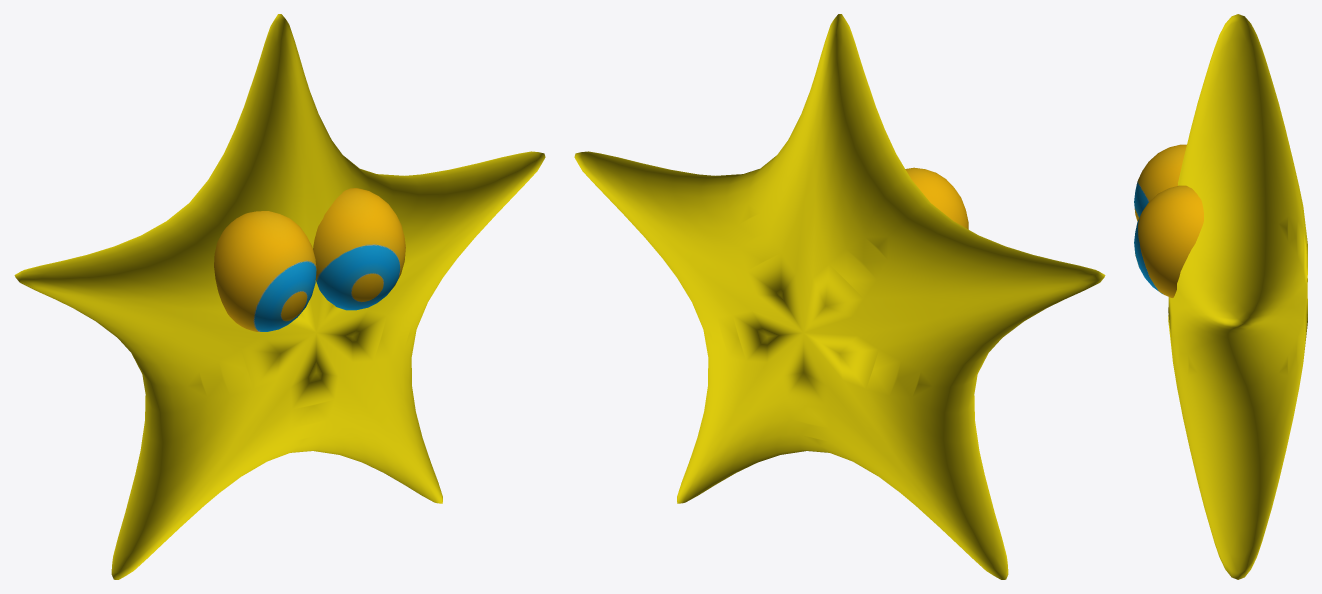
File: star.obj
3 views of the same model, side by side, from view 1: azimuth 30°, elevation 25°; view 2: azimuth 150°, elevation 25°; view 3: azimuth 270°, elevation 25° (orthographic). The views are drawn at different scales.
Parts seen in each view (by area): view 1: Estrella_Collapsed, GeoSphere01, GeoSphere02; view 2: Estrella_Collapsed, GeoSphere01; view 3: Estrella_Collapsed, GeoSphere02, GeoSphere01.
Part boxes in pixels (x1=…): Estrella_Collapsed: x1=14, y1=14, x2=545, y2=579; GeoSphere01: x1=214, y1=211, x2=316, y2=331; GeoSphere02: x1=313, y1=188, x2=405, y2=310; Estrella_Collapsed: x1=574, y1=14, x2=1105, y2=579; GeoSphere01: x1=905, y1=167, x2=968, y2=229; Estrella_Collapsed: x1=1168, y1=14, x2=1307, y2=579; GeoSphere02: x1=1134, y1=185, x2=1203, y2=297; GeoSphere01: x1=1134, y1=144, x2=1186, y2=221.
Size of what is drawn, in the model's own units: 8.57 by 8.18 by 2.61.
Materials: 2 (1 with a texture image).
